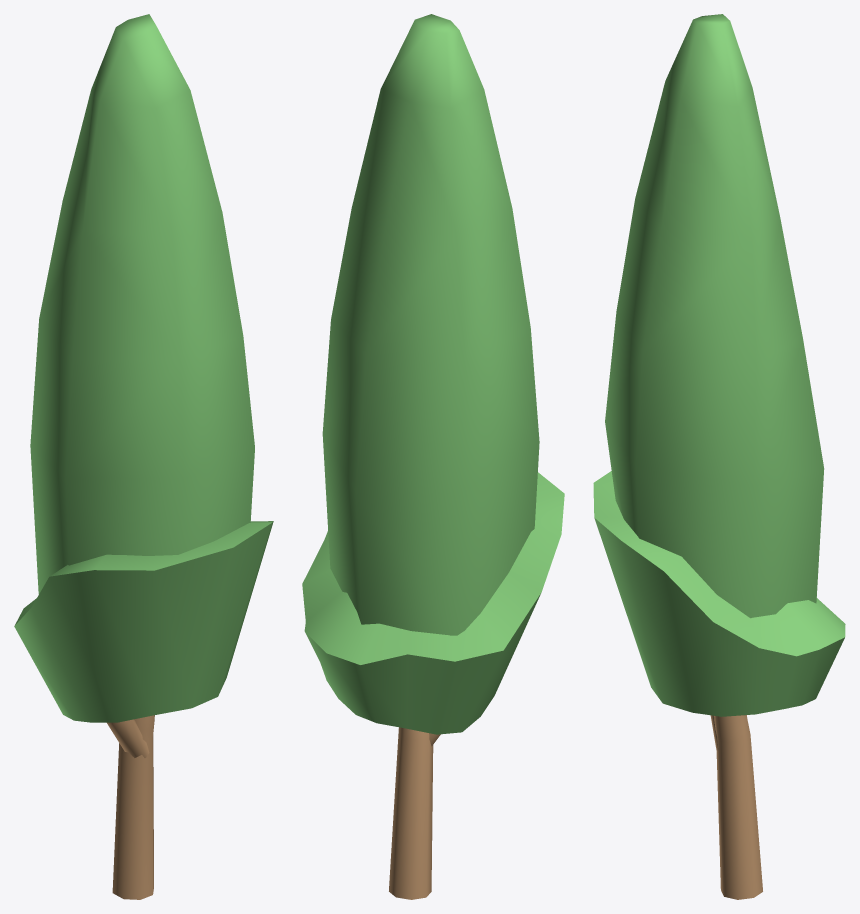
File: Tree_v3.fbx
3 renders of one model, left to right at view 1: azimuth 30°, elevation 25°; view 2: azimuth 150°, elevation 25°; view 3: azimuth 270°, elevation 25°, orthographic. The views are drawn at different scales.
Visible parts, largest first — view 1: Polygon_1, Sweep_4; view 2: Polygon_1, Sweep_4; view 3: Polygon_1, Sweep_4.
Part boxes in pixels (<box>): Polygon_1: <box>14,14,273,722</box>; Sweep_4: <box>107,715,154,899</box>; Polygon_1: <box>302,14,564,734</box>; Sweep_4: <box>389,727,440,899</box>; Polygon_1: <box>593,14,845,716</box>; Sweep_4: <box>710,715,762,899</box>.
Size of the model in its own units: 117 by 445 by 117.
